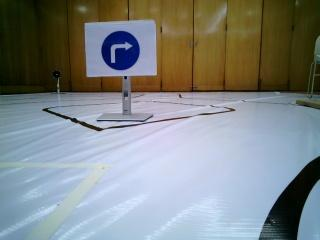right: (90, 29, 151, 68)
